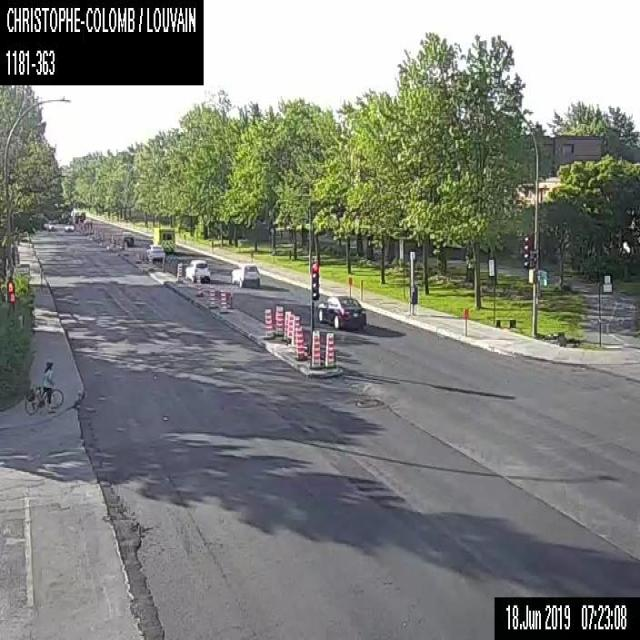construction: (308, 329, 323, 369), (294, 323, 306, 360), (324, 330, 335, 368), (263, 306, 275, 338), (274, 304, 283, 336), (282, 309, 290, 339), (292, 314, 300, 343), (287, 313, 294, 342), (220, 288, 228, 312), (208, 284, 215, 308), (463, 307, 468, 334), (177, 261, 182, 282), (348, 276, 352, 296)
cyclist: (26, 360, 66, 412)
vehicle: (315, 294, 366, 329), (230, 261, 261, 287), (152, 225, 174, 252), (185, 258, 210, 280), (145, 243, 165, 261), (119, 231, 134, 245), (64, 220, 74, 230), (82, 218, 92, 227), (48, 220, 57, 230)
